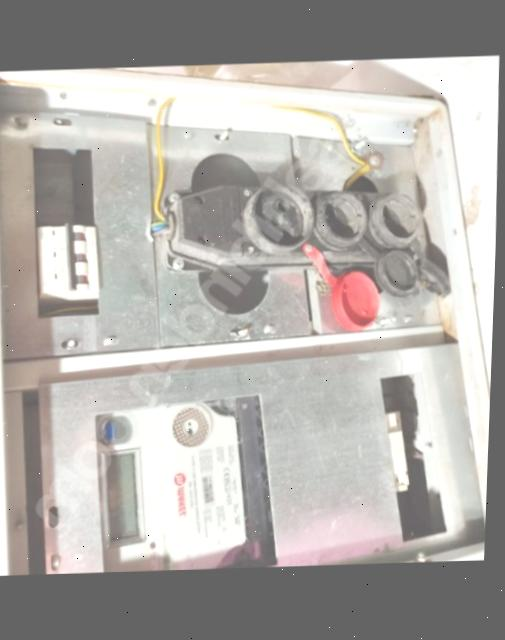electric-meter-detection: (95, 402, 246, 573)
